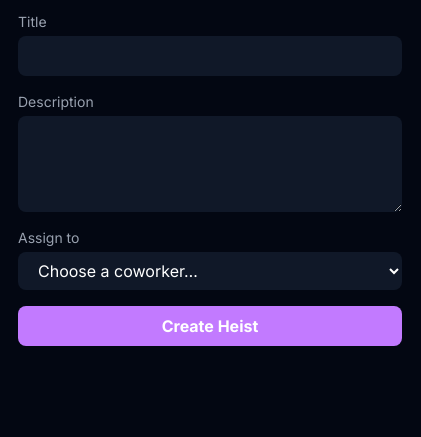
Test: CreateHeistForm › shows validation errors and does not write when required fields are empty
Click the button "Create Heist" at (210, 326), box [18, 306, 402, 346]
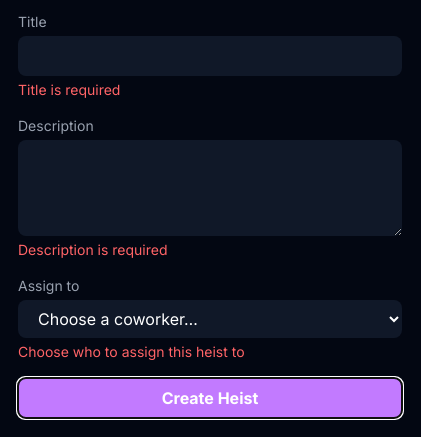
Expected: the text "Title is required" is shown, [18, 81, 120, 98]
Expected: the text "Description is required" is shown, [18, 241, 168, 258]
Expected: the text "Choose who to assign this heist to" is shown, [18, 343, 245, 360]
